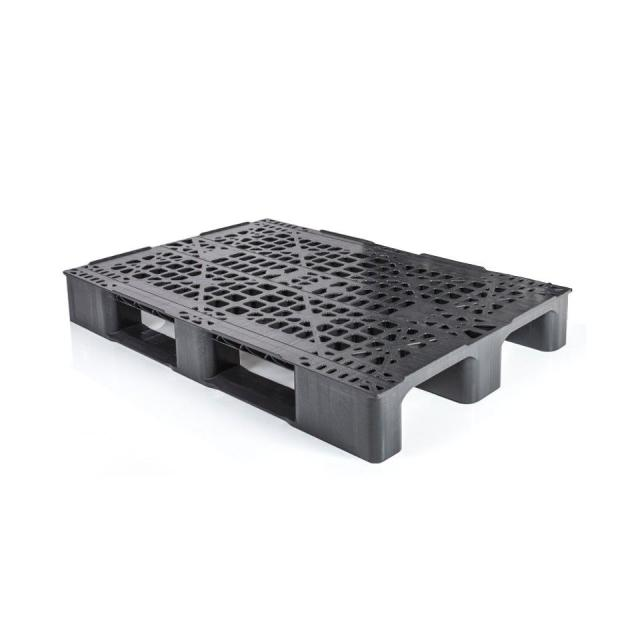non-igps: (51, 200, 586, 470)
